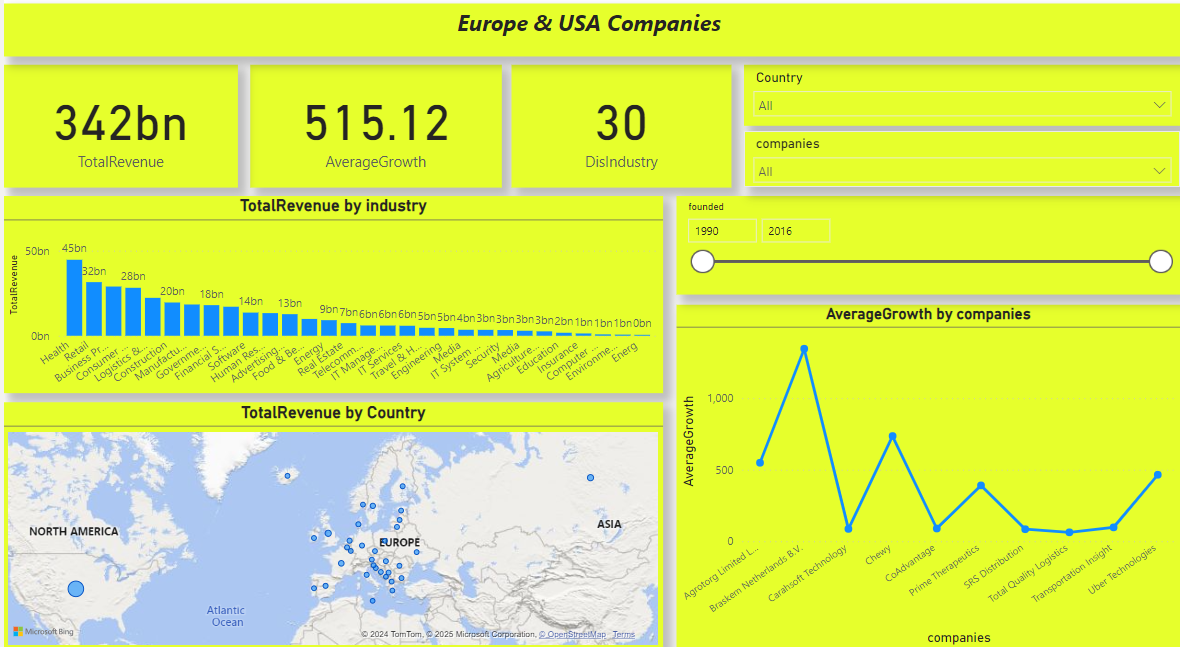

The dashboard page shown, as its layout file describes it:
{"tool":"powerbi","page":{"name":"Companies","canvas":[1280,720],"ordinal":0},"visuals":[{"type":"card","fields":{"Values":["company.AverageGrowth"]},"box":[267.8,85.6,273.2,133.2],"z":0},{"type":"card","fields":{"Values":["company.TotalRevenue"]},"box":[0,85.6,254.2,133.2],"z":1000},{"type":"card","fields":{"Values":["company.DisIndustry"]},"box":[551.9,85.6,239.3,133.2],"z":2000},{"type":"columnChart","fields":{"Category":["company.industry"],"Y":["company.TotalRevenue"]},"box":[0,228.4,716.4,214.8],"z":3000},{"type":"map","fields":{"Size":["company.TotalRevenue"],"Category":["company.Country"]},"box":[0,452.7,716.4,267.8],"z":4000},{"type":"slicer","fields":{"Values":["company.Country"]},"box":[804.8,85.6,474.4,66.6],"z":5000},{"type":"lineChart","fields":{"Category":["company.companies"],"Y":["company.AverageGrowth"]},"box":[731.4,346.6,547.8,373.8],"z":6000},{"type":"slicer","fields":{"Values":["company.founded"]},"box":[731.4,228.4,547.8,107.4],"z":7000},{"type":"textbox","box":[0,19.2,1279.2,57.6],"z":8001},{"type":"slicer","fields":{"Values":["company.companies"]},"box":[804.8,157.7,474.4,61.2],"z":8002}]}

Visuals, with their boxes in screenshot pixels (x1, y1, x2, y2), scaled from the page's 1280x720 canvas onto the 1180x647 screenshot:
card - company.AverageGrowth: [left=247, top=77, right=499, bottom=197]
card - company.TotalRevenue: [left=0, top=77, right=234, bottom=197]
card - company.DisIndustry: [left=509, top=77, right=729, bottom=197]
columnChart - company.industry x company.TotalRevenue: [left=0, top=205, right=660, bottom=398]
map - company.TotalRevenue x company.Country: [left=0, top=407, right=660, bottom=646]
slicer - company.Country: [left=742, top=77, right=1179, bottom=137]
lineChart - company.companies x company.AverageGrowth: [left=674, top=311, right=1179, bottom=646]
slicer - company.founded: [left=674, top=205, right=1179, bottom=302]
textbox: [left=0, top=17, right=1179, bottom=69]
slicer - company.companies: [left=742, top=142, right=1179, bottom=197]
